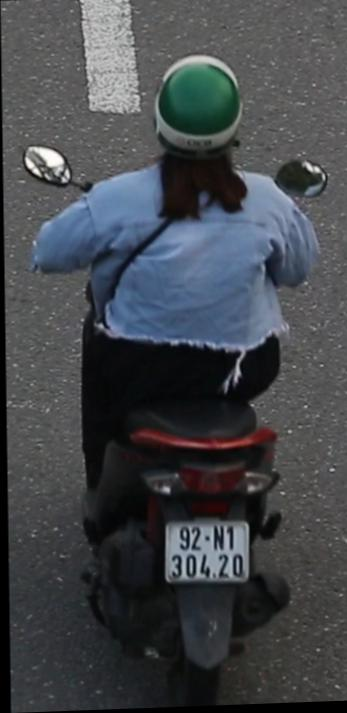LP: (159, 516, 251, 590)
helmet: (151, 47, 248, 222)
